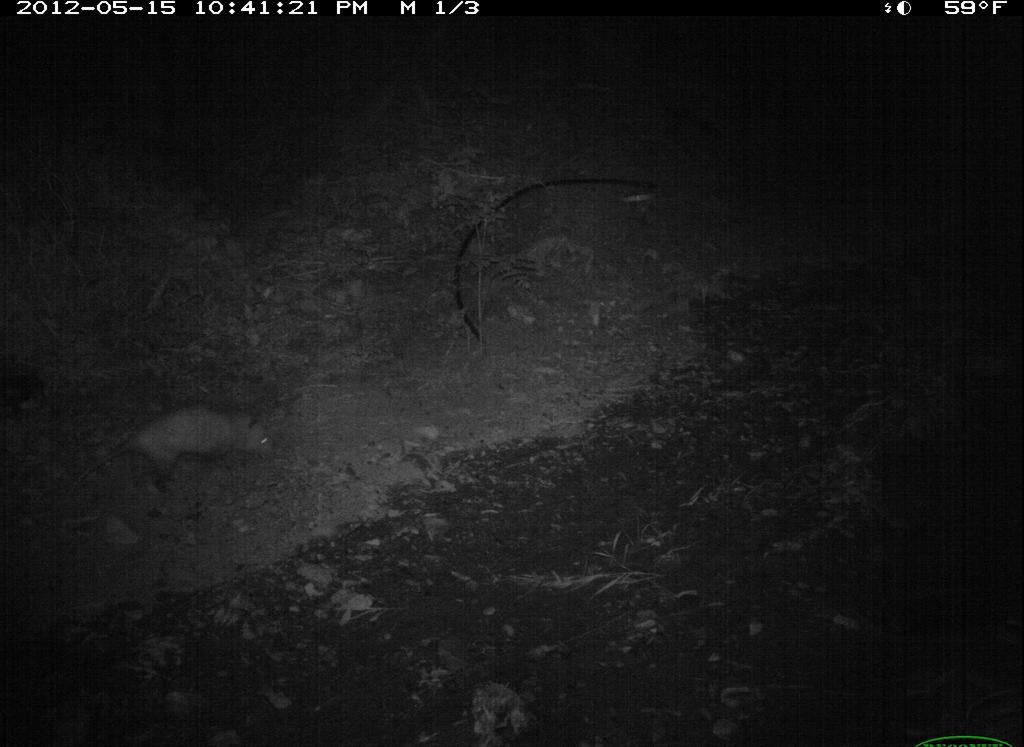opossum: (57, 399, 301, 513)
